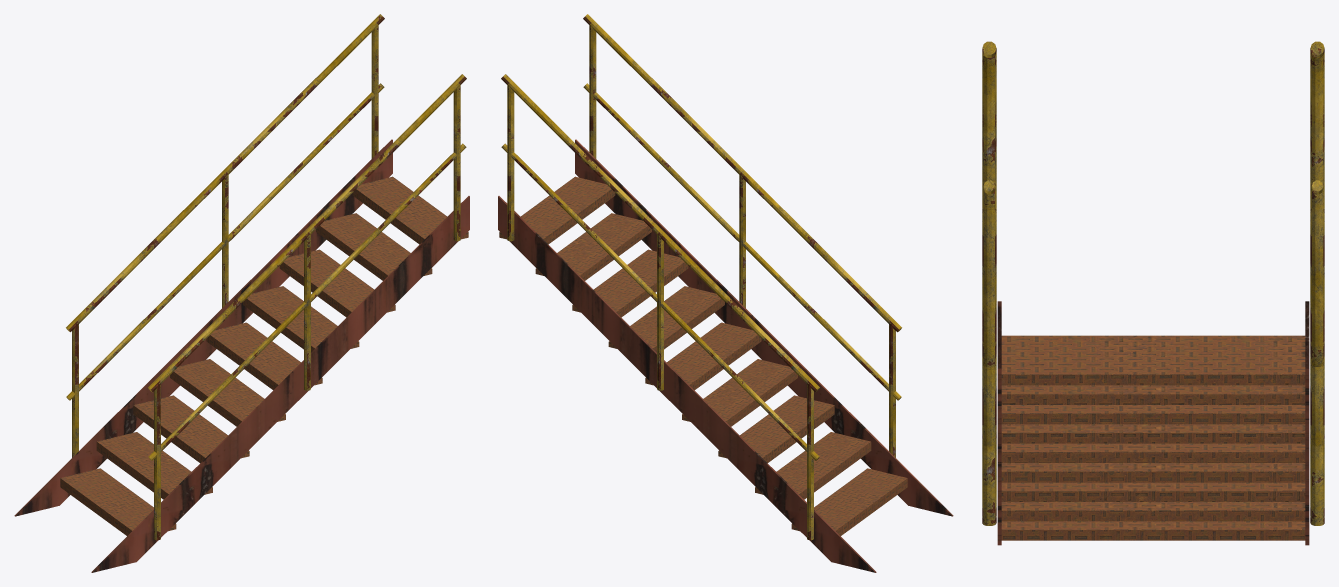
File: merdiven_rampa_1_8m.gltf
3 renders of one model, left to right at view 1: azimuth 30°, elevation 25°; view 2: azimuth 150°, elevation 25°; view 3: azimuth 270°, elevation 25°, orthographic. The views are drawn at different scales.
Visible parts, largest first — view 1: merdiven_rampa_1_8m; view 2: merdiven_rampa_1_8m; view 3: merdiven_rampa_1_8m.
Part boxes in pixels (x1=…): merdiven_rampa_1_8m: x1=14, y1=14, x2=469, y2=572; merdiven_rampa_1_8m: x1=498, y1=14, x2=953, y2=572; merdiven_rampa_1_8m: x1=982, y1=41, x2=1324, y2=545.
Size of what is drawn, in the model's own units: 2.58 by 2.68 by 1.01.
3 materials, 3 textured.
